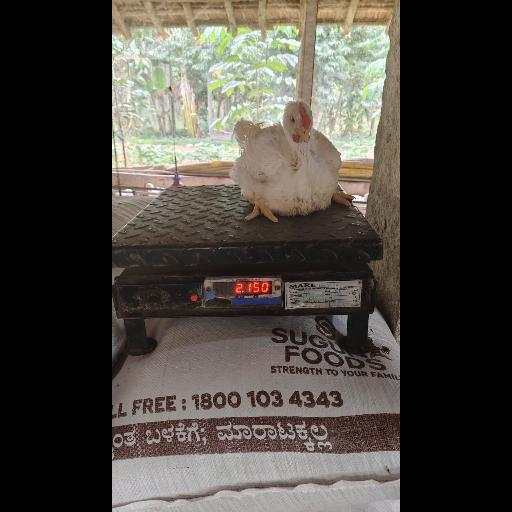chick: (229, 100, 355, 222)
